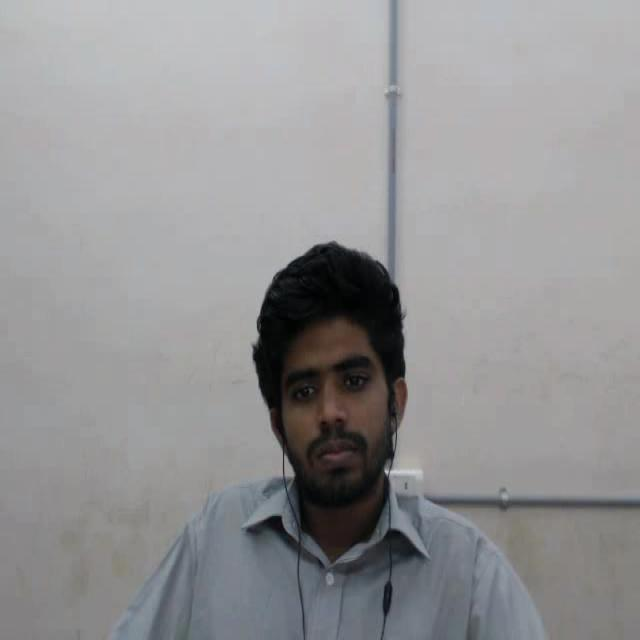Engaged: (222, 208, 426, 586)
